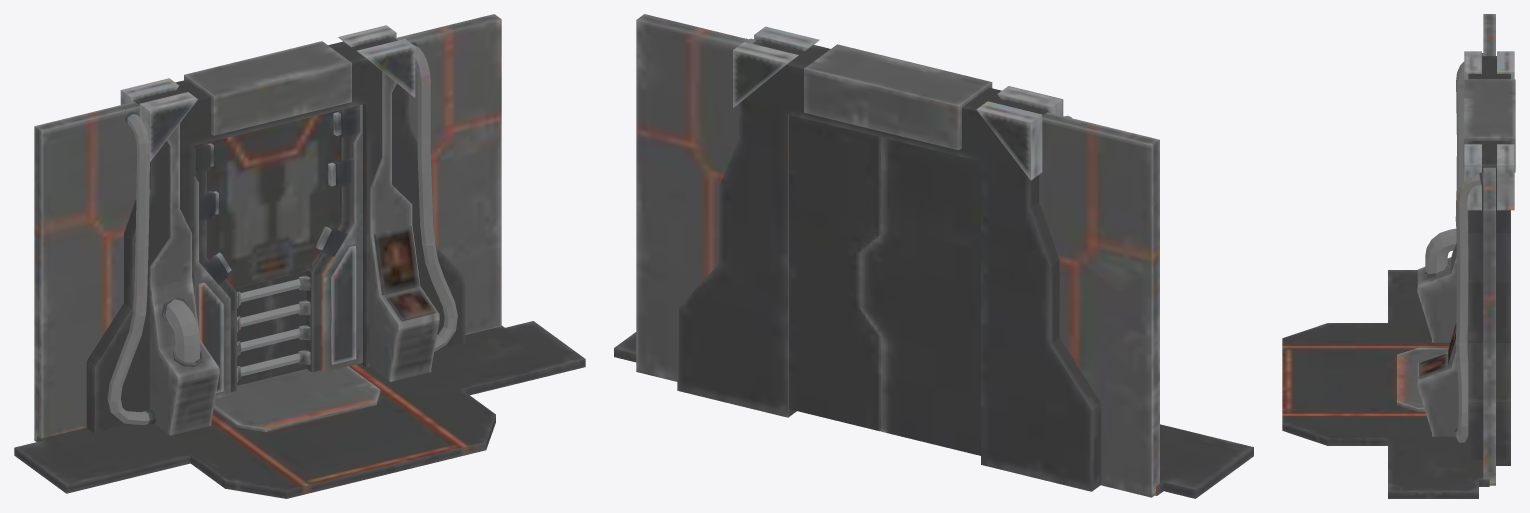
The model's file is herald-door.glb.
The picture shows the model from 3 angles, left to right: view 1: azimuth 30°, elevation 25°; view 2: azimuth 150°, elevation 25°; view 3: azimuth 270°, elevation 25°; orthographic projection. The views are drawn at different scales.
Visible parts, largest first — view 1: Object_39, Object_25, Object_31, Object_27, Object_33, Object_55, Object_43, Object_47, Object_35, Object_45, Object_51, Object_29 (+3 smaller); view 2: Object_39, Object_31, Object_57, Object_41, Object_43, Object_45, Object_25; view 3: Object_25, Object_31, Object_27, Object_39, Object_47, Object_43, Object_45, Object_49, Object_29.
Part boxes in pixels (left/top/right/bottom): Object_39: left=34, top=14, right=501, bottom=441; Object_25: left=14, top=321, right=585, bottom=498; Object_31: left=86, top=37, right=465, bottom=433; Object_27: left=149, top=71, right=439, bottom=435; Object_33: left=206, top=111, right=339, bottom=288; Object_55: left=269, top=104, right=362, bottom=377; Object_43: left=184, top=41, right=351, bottom=135; Object_47: left=107, top=42, right=457, bottom=425; Object_35: left=194, top=143, right=278, bottom=398; Object_45: left=120, top=25, right=415, bottom=161; Object_51: left=194, top=108, right=360, bottom=284; Object_29: left=374, top=225, right=435, bottom=321; Object_39: left=636, top=14, right=1159, bottom=497; Object_31: left=677, top=40, right=1101, bottom=491; Object_57: left=859, top=137, right=980, bottom=455; Object_41: left=789, top=115, right=880, bottom=431; Object_43: left=804, top=44, right=992, bottom=150; Object_45: left=733, top=26, right=1063, bottom=180; Object_25: left=614, top=332, right=1253, bottom=498; Object_25: left=1282, top=270, right=1489, bottom=498; Object_31: left=1468, top=56, right=1510, bottom=465; Object_27: left=1417, top=210, right=1468, bottom=436; Object_39: left=1483, top=14, right=1495, bottom=485; Object_47: left=1455, top=53, right=1483, bottom=442; Object_43: left=1463, top=79, right=1515, bottom=172; Object_45: left=1464, top=51, right=1514, bottom=210; Object_49: left=1423, top=228, right=1456, bottom=277; Object_29: left=1419, top=323, right=1456, bottom=378.
Bounding box in the file's own units: 7.26 × 4.28 × 3.23.
1 material, 1 textured.
